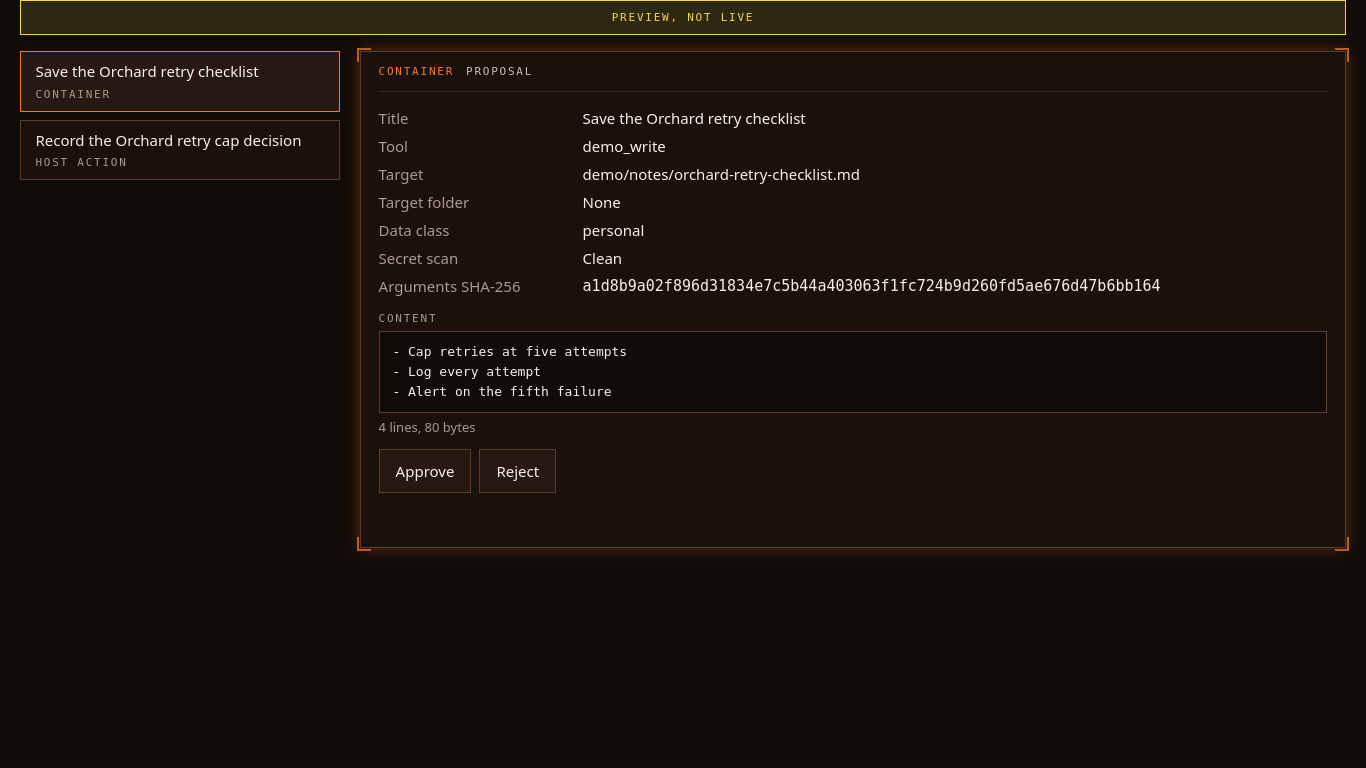
Test: Approve shows Preview: nothing was executed
Click the button "Approve".
click(425, 471)  # box [379, 449, 471, 493]
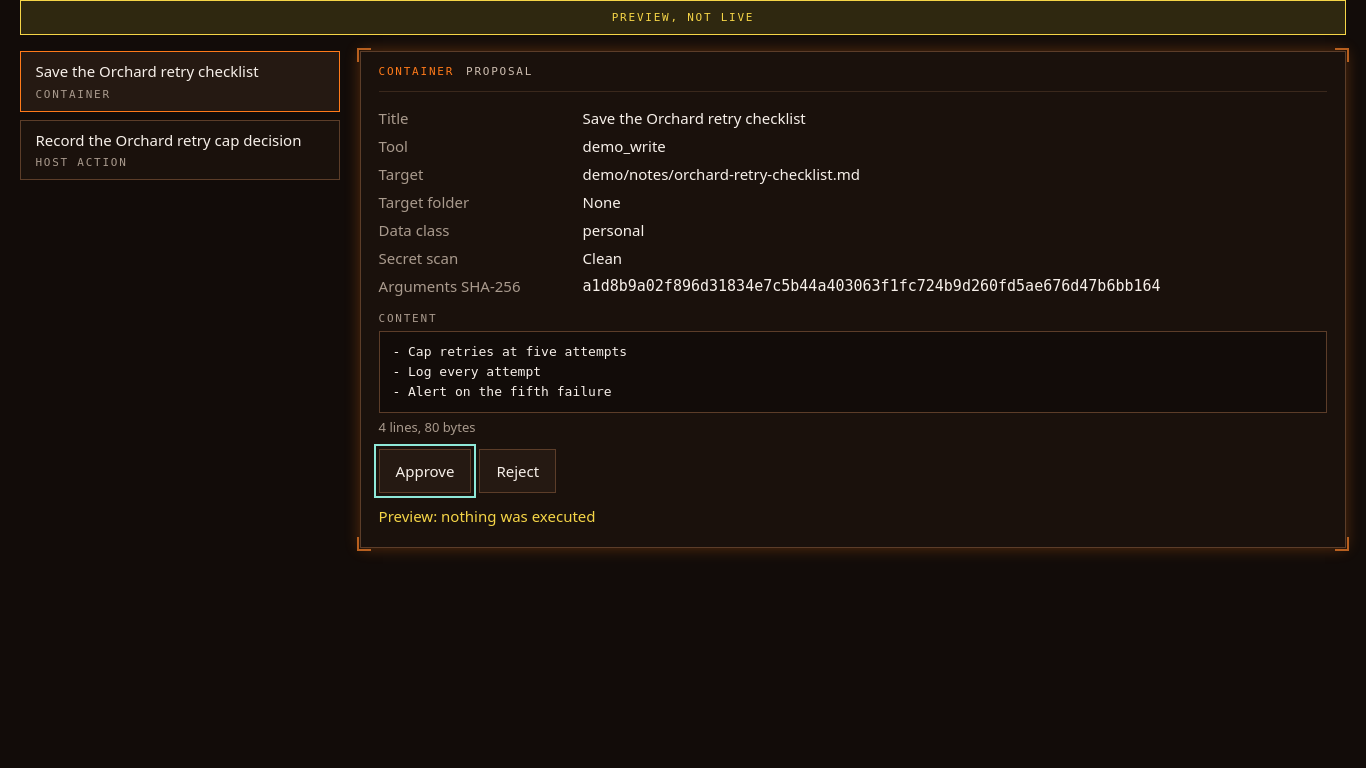
Expected: the message reads "Preview: nothing was executed", [379, 506, 596, 526]
